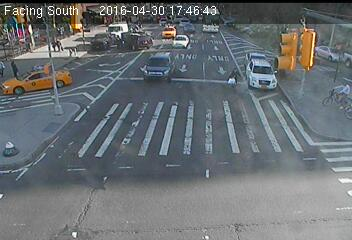neg: (334, 78, 351, 106), (342, 95, 351, 119), (78, 26, 90, 43), (135, 34, 145, 47)
pos: (6, 58, 17, 74), (57, 39, 65, 49), (49, 39, 56, 49)
